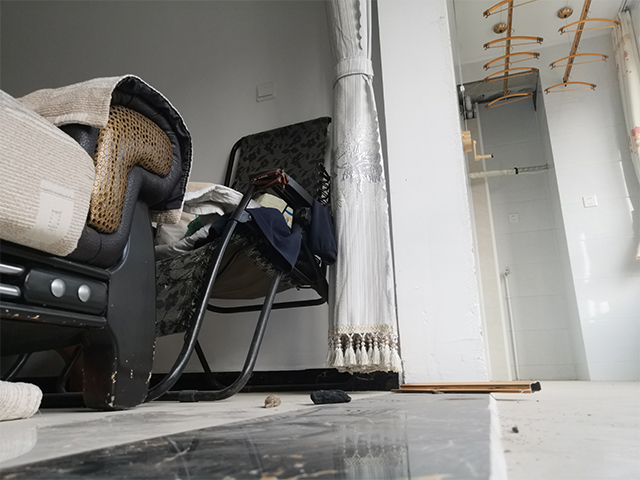curtain: (321, 1, 409, 378)
feces: (306, 386, 354, 406), (259, 394, 282, 410)
sofa: (1, 71, 193, 413)
stool: (4, 115, 336, 406)
